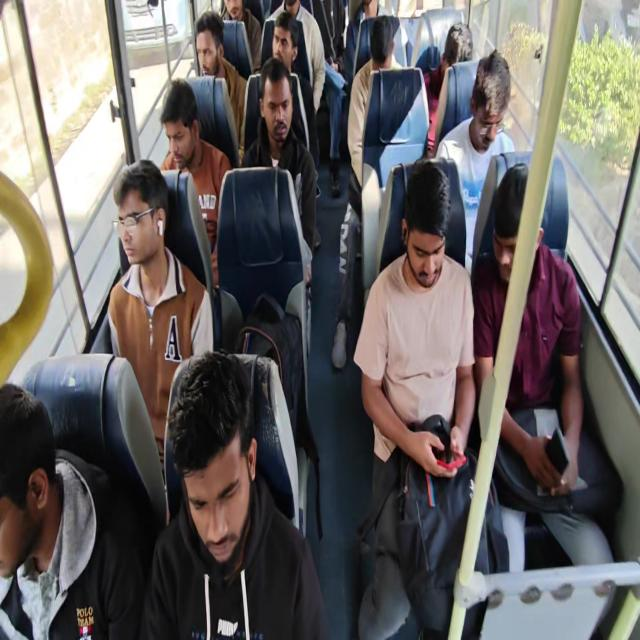person: (167, 342, 261, 581), (398, 160, 456, 300), (496, 171, 545, 291), (115, 164, 173, 264), (468, 45, 514, 158), (161, 83, 206, 179), (254, 62, 301, 144), (189, 8, 234, 88), (268, 12, 306, 80), (364, 9, 400, 75), (441, 14, 480, 66)
